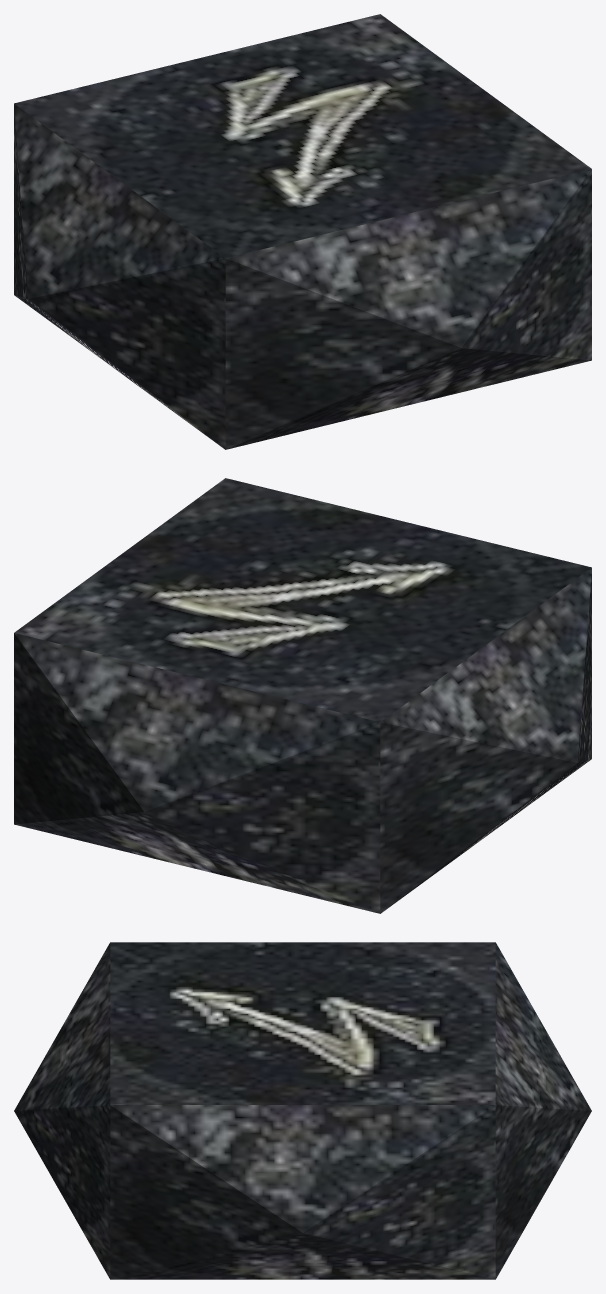
File: ITRU_LIGHTNINGFLASH.glb
The picture shows the model from 3 angles, top to bottom: view 1: azimuth 30°, elevation 25°; view 2: azimuth 150°, elevation 25°; view 3: azimuth 270°, elevation 25°; orthographic projection. The views are drawn at different scales.
Visible parts, largest first — view 1: ITRU_LIGHTNINGFLASH; view 2: ITRU_LIGHTNINGFLASH; view 3: ITRU_LIGHTNINGFLASH.
Boxes of the visible parts, x1,y1,x2,y2 form: ITRU_LIGHTNINGFLASH: (14, 14, 591, 449); ITRU_LIGHTNINGFLASH: (14, 478, 591, 913); ITRU_LIGHTNINGFLASH: (14, 942, 591, 1279).
Size of the model in its own units: 0.27 by 0.09 by 0.27.
1 material, 1 textured.
